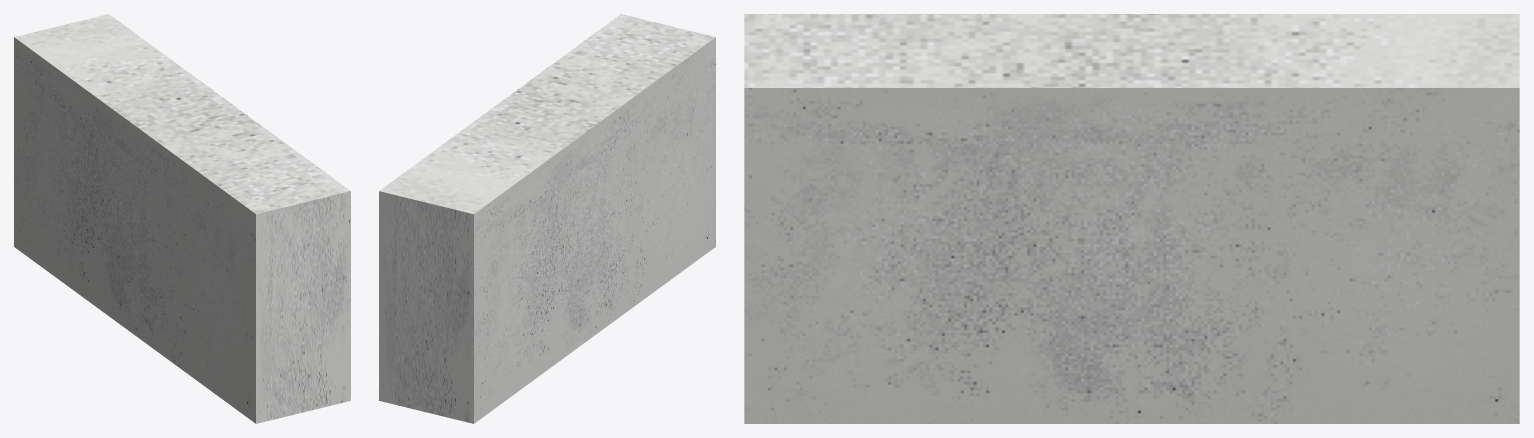
File: labwalls.fbx
3 views of the same model, side by side, from view 1: azimuth 30°, elevation 25°; view 2: azimuth 150°, elevation 25°; view 3: azimuth 270°, elevation 25° (orthographic). The views are drawn at different scales.
Visible parts, largest first — view 1: Cube; view 2: Cube; view 3: Cube.
Part boxes in pixels (x1,y1,x2,y2): Cube: (14,14,350,423); Cube: (379,14,715,423); Cube: (744,14,1519,423).
Size of the model in its own units: 200 by 423 by 884.
